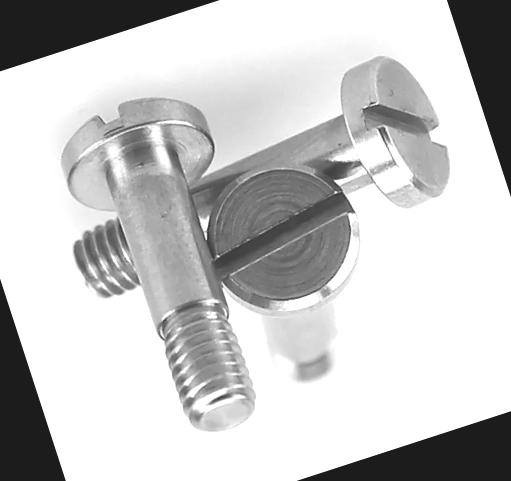slotted: (186, 142, 381, 336)
